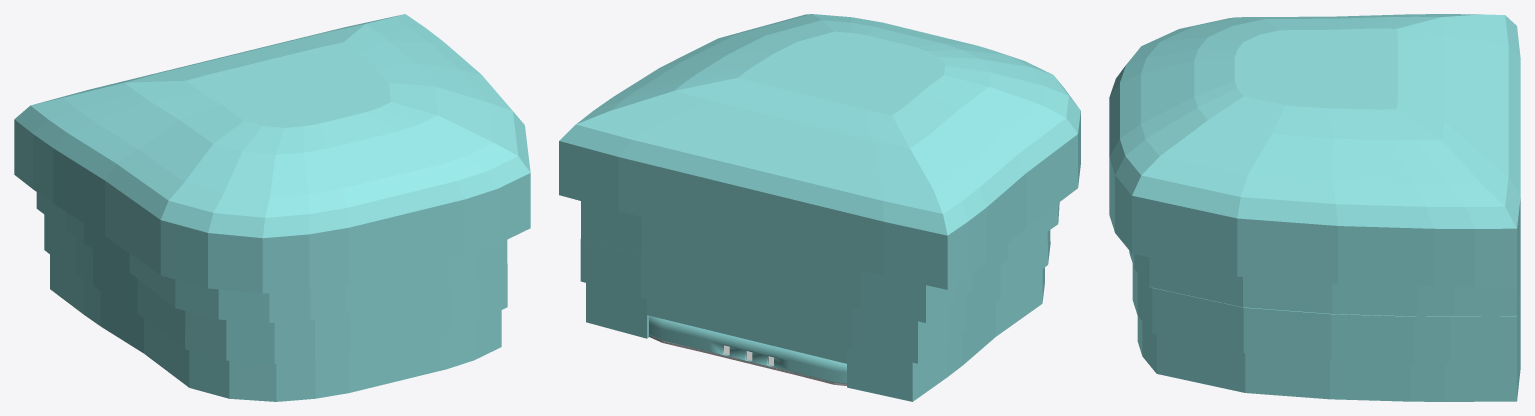
File: TimeSquare.fbx
3 views of the same model, side by side, from view 1: azimuth 30°, elevation 25°; view 2: azimuth 150°, elevation 25°; view 3: azimuth 270°, elevation 25° (orthographic). The views are drawn at different scales.
Visible parts, largest first — view 1: OuterWall, Hull; view 2: OuterWall, Hull, GlassWall, Base; view 3: Hull, OuterWall.
Boxes of the visible parts, box(x1,y1,x2,y2) form: OuterWall: box(14, 119, 530, 401); Hull: box(14, 14, 530, 238); OuterWall: box(559, 111, 1080, 401); Hull: box(559, 14, 1080, 235); GlassWall: box(649, 315, 846, 383); Base: box(649, 335, 846, 385); Hull: box(1109, 14, 1520, 228); OuterWall: box(1109, 157, 1520, 401).
Bounding box in the file's own units: 114 × 63.81 × 97.59.
